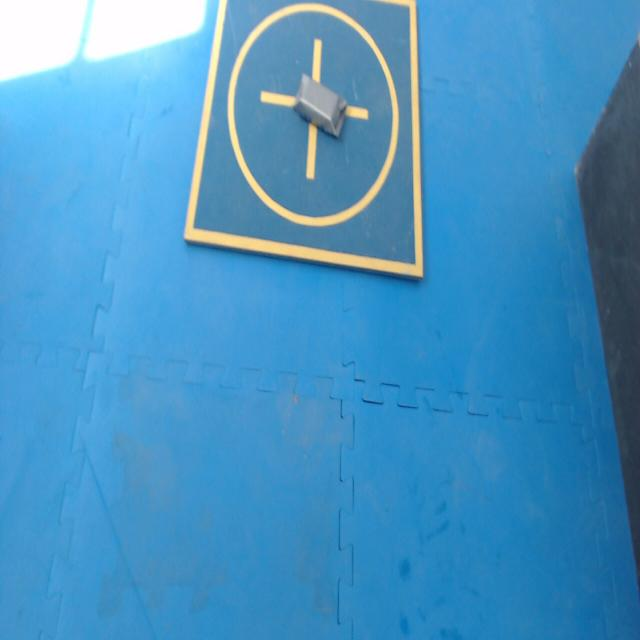esquerda: (294, 74, 346, 137)
